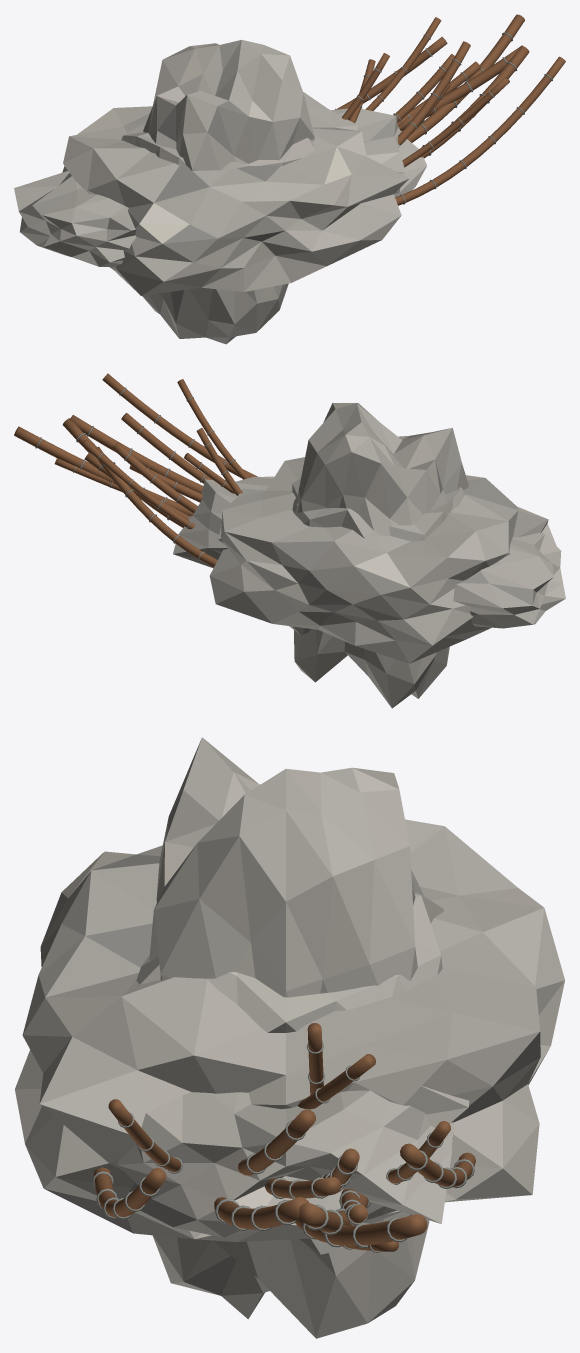
File: concrete_debris_pc.fbx
3 views of the same model, one above another, from view 1: azimuth 30°, elevation 25°; view 2: azimuth 150°, elevation 25°; view 3: azimuth 270°, elevation 25° (orthographic). The views are drawn at different scales.
Visible parts, largest first — view 1: PC_Debris_08_RebarCorner, PC_Debris_07_RebarColumn, PC_Debris_06_RebarLongSlab, PC_Debris_05_RebarBlock, PC_Debris_04_RebarSlab; view 2: PC_Debris_08_RebarCorner, PC_Debris_07_RebarColumn, PC_Debris_06_RebarLongSlab, PC_Debris_05_RebarBlock, PC_Debris_04_RebarSlab; view 3: PC_Debris_08_RebarCorner, PC_Debris_07_RebarColumn, PC_Debris_06_RebarLongSlab, PC_Debris_05_RebarBlock, PC_Debris_04_RebarSlab.
Boxes of the visible parts, left/top/right/bottom form: PC_Debris_08_RebarCorner: left=62, top=37, right=565, bottom=295; PC_Debris_07_RebarColumn: left=142, top=39, right=389, bottom=344; PC_Debris_06_RebarLongSlab: left=14, top=14, right=529, bottom=267; PC_Debris_05_RebarBlock: left=121, top=54, right=454, bottom=287; PC_Debris_04_RebarSlab: left=365, top=17, right=509, bottom=167; PC_Debris_08_RebarCorner: left=84, top=373, right=556, bottom=663; PC_Debris_07_RebarColumn: left=184, top=403, right=468, bottom=708; PC_Debris_06_RebarLongSlab: left=14, top=415, right=565, bottom=628; PC_Debris_05_RebarBlock: left=112, top=441, right=464, bottom=635; PC_Debris_04_RebarSlab: left=54, top=379, right=249, bottom=544; PC_Debris_08_RebarCorner: left=15, top=819, right=564, bottom=1242; PC_Debris_07_RebarColumn: left=149, top=737, right=429, bottom=1338; PC_Debris_06_RebarLongSlab: left=117, top=1090, right=453, bottom=1248; PC_Debris_05_RebarBlock: left=136, top=892, right=444, bottom=1254; PC_Debris_04_RebarSlab: left=108, top=1086, right=469, bottom=1252.
Bounding box in the file's own units: 1.35 × 0.628 × 0.7237.
